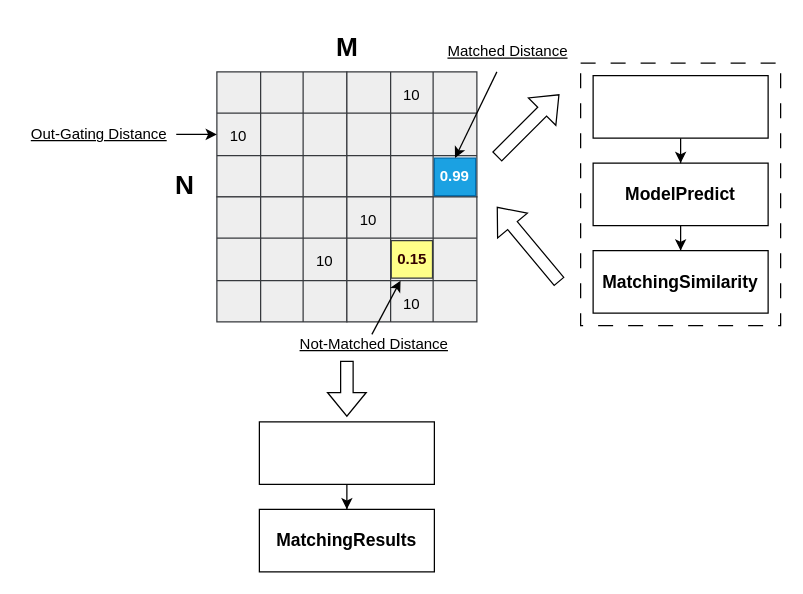
The diagram is 803 pixels wide and 594 high, and some of its shapes have lost their labels. The shapes that lost their labels are listed below. From the top down, each one's centre as x and y in pixels, then its label:
(680,106): ExtractFeatures
(346,452): GraphMatching
